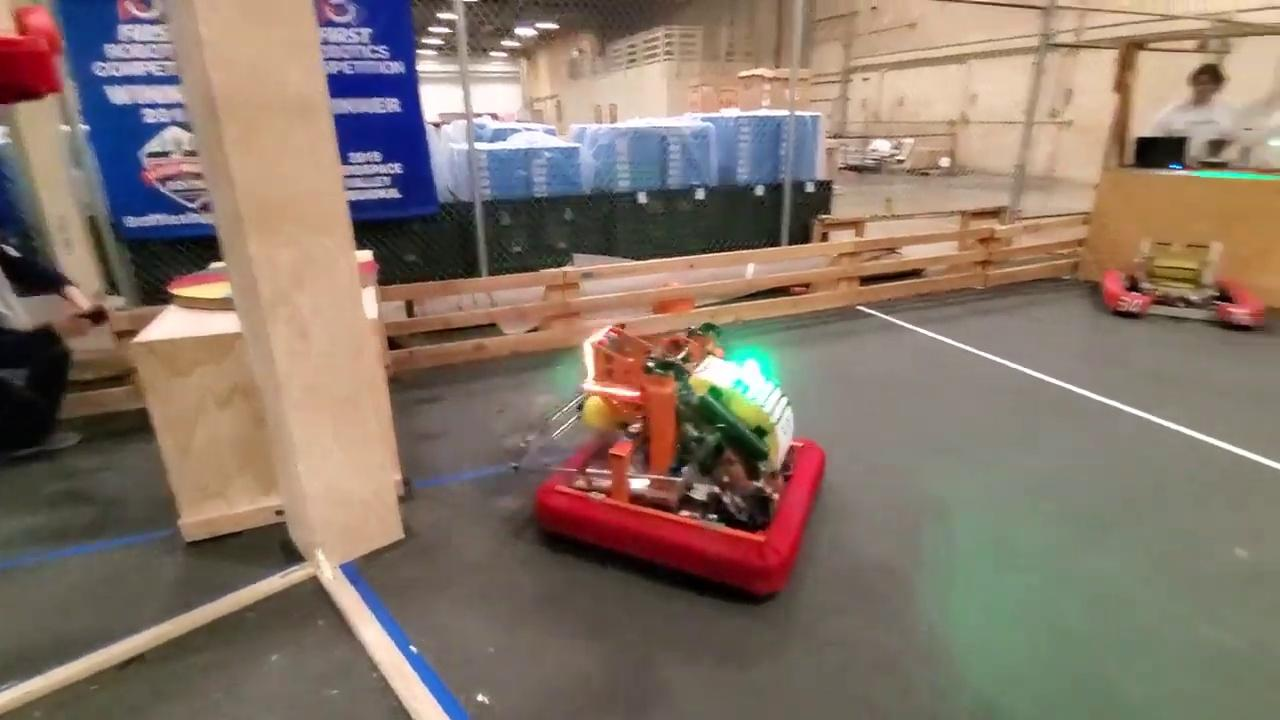robot: (526, 307, 831, 609)
